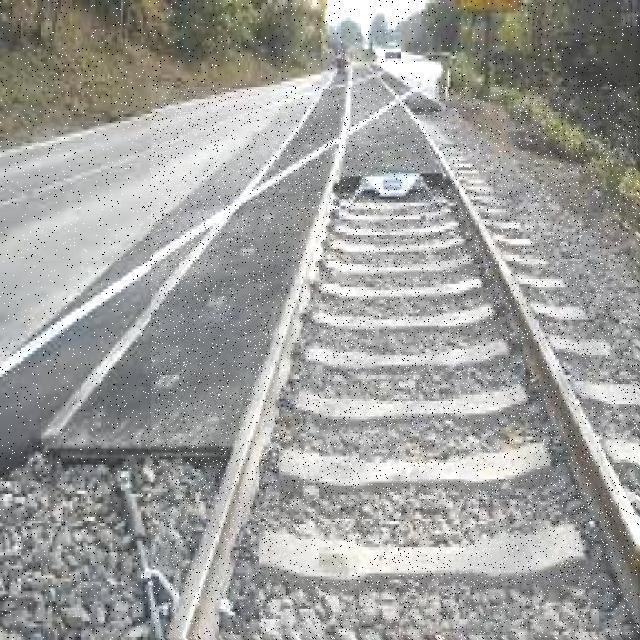rail: (153, 88, 639, 639)
